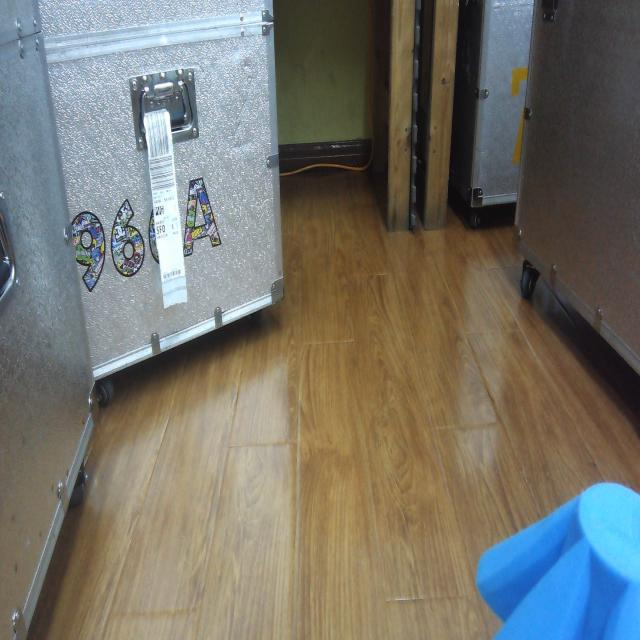zblue-Stake-Head: (475, 481, 640, 640)
